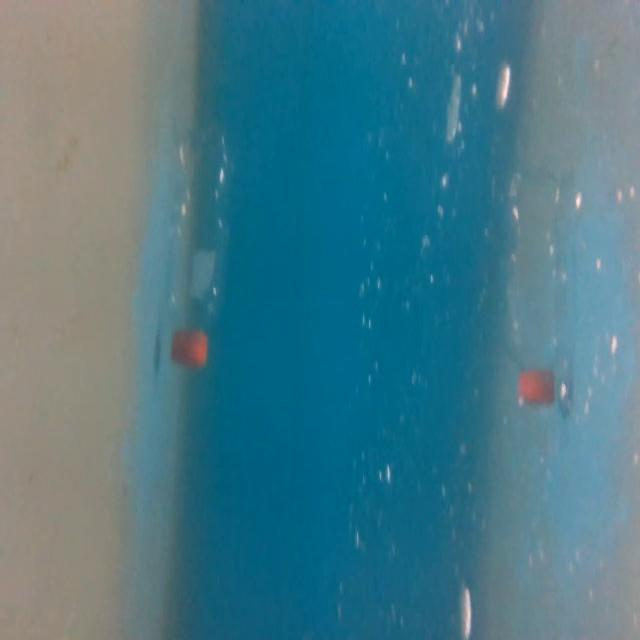plastic bottle: (157, 118, 232, 374)
